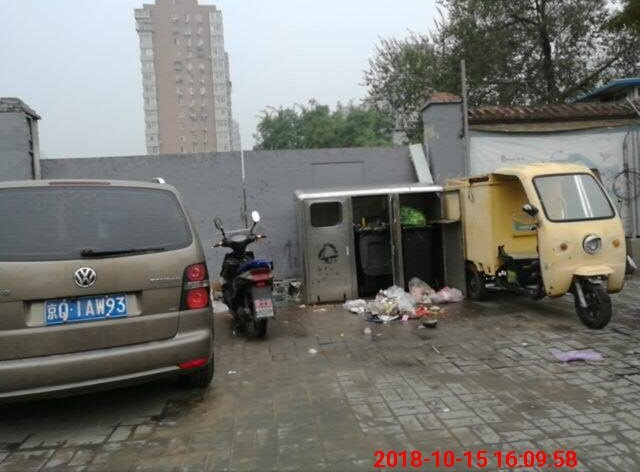trash: (285, 181, 494, 337)
